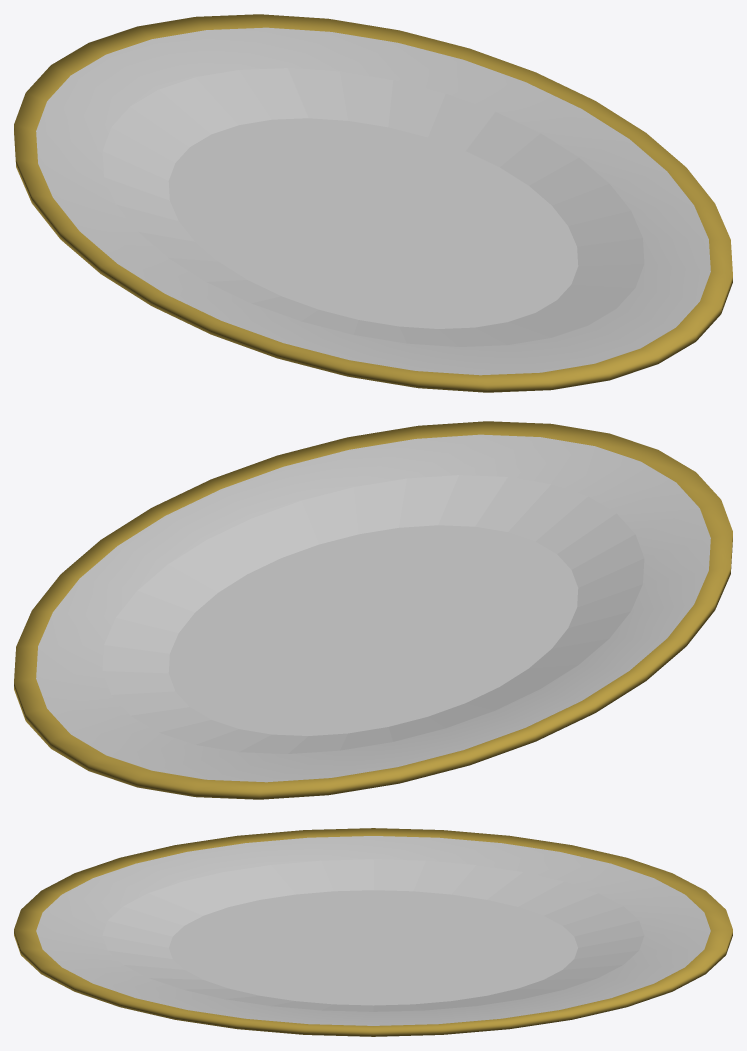
File: OvalPlate1.fbx
3 views of the same model, one above another, from view 1: azimuth 30°, elevation 25°; view 2: azimuth 150°, elevation 25°; view 3: azimuth 270°, elevation 25° (orthographic). The views are drawn at different scales.
Parts seen in each view (by area): view 1: Cylinder; view 2: Cylinder; view 3: Cylinder.
Part boxes in pixels (x1,y1,x2,y2): Cylinder: [14, 14, 732, 392]; Cylinder: [14, 421, 732, 799]; Cylinder: [14, 828, 732, 1036].
Size of the model in its own units: 70 by 5 by 105.
